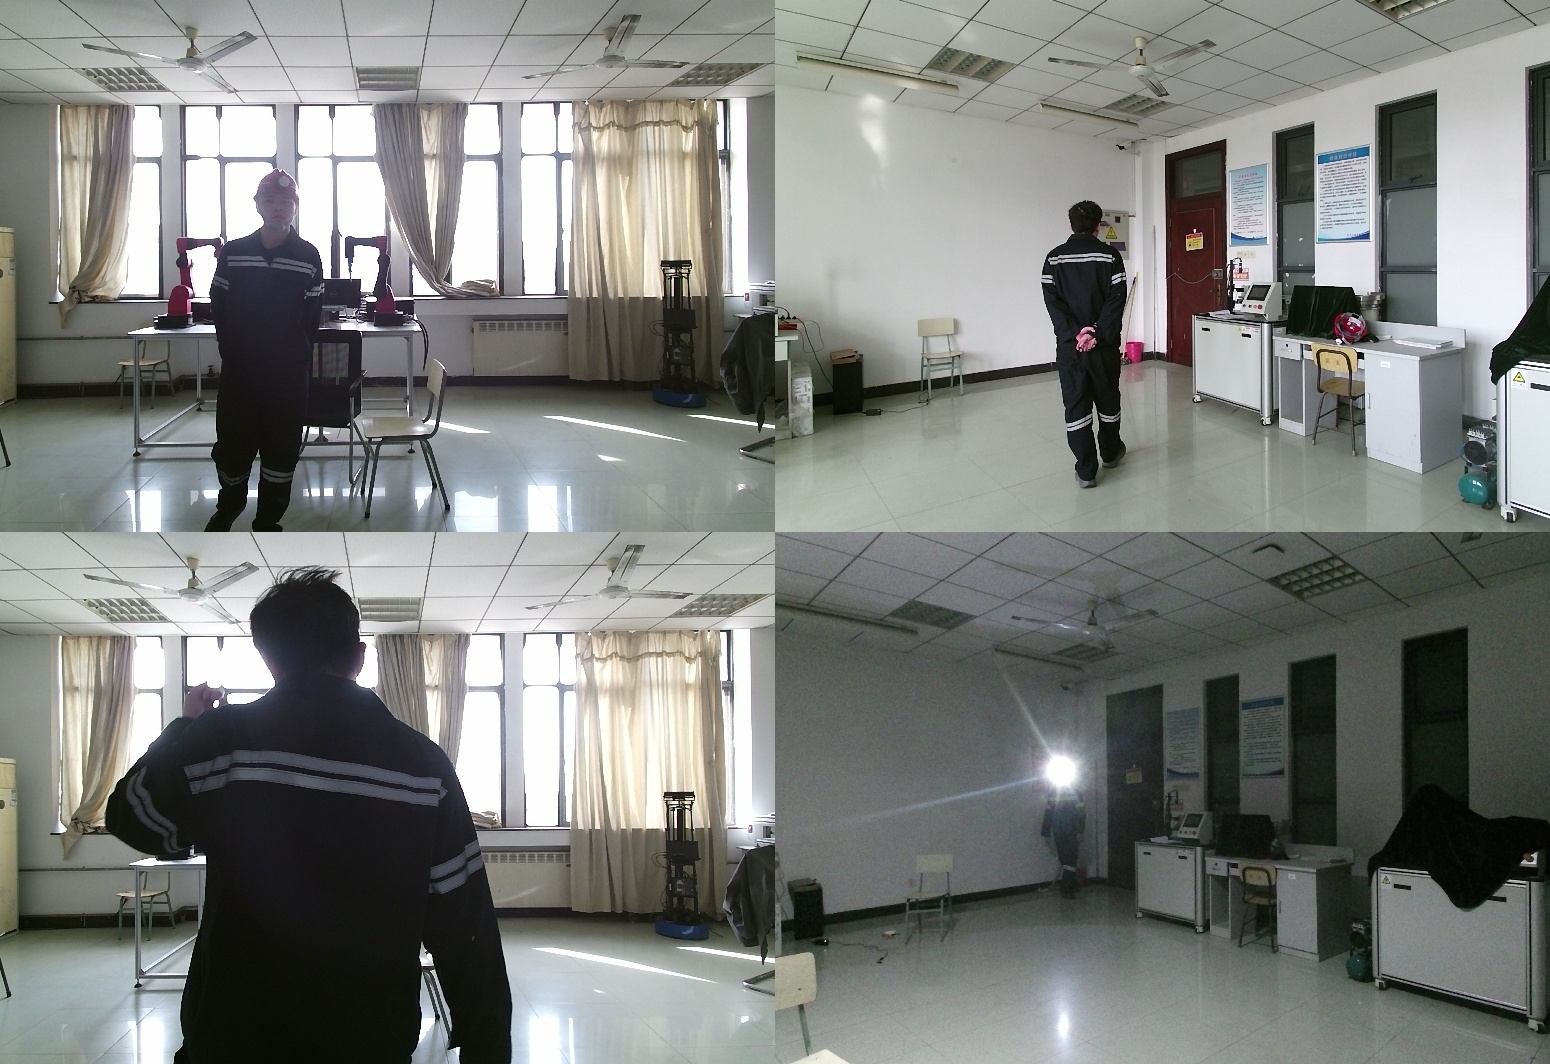person: (112, 573, 511, 1064), (207, 170, 333, 532), (1034, 202, 1145, 489), (1041, 768, 1089, 898)
